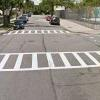Crosswalk: (4, 45, 100, 80)
